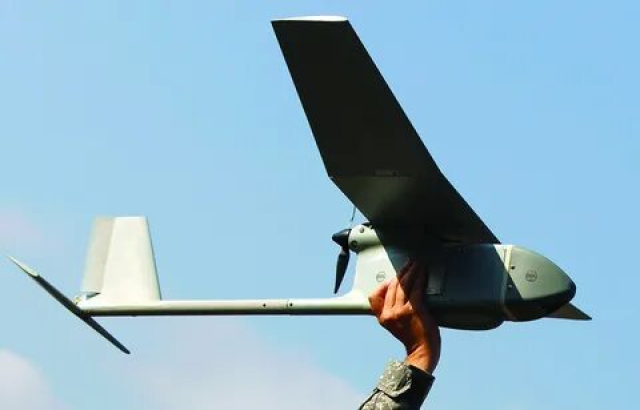military drone: (7, 14, 591, 354)
